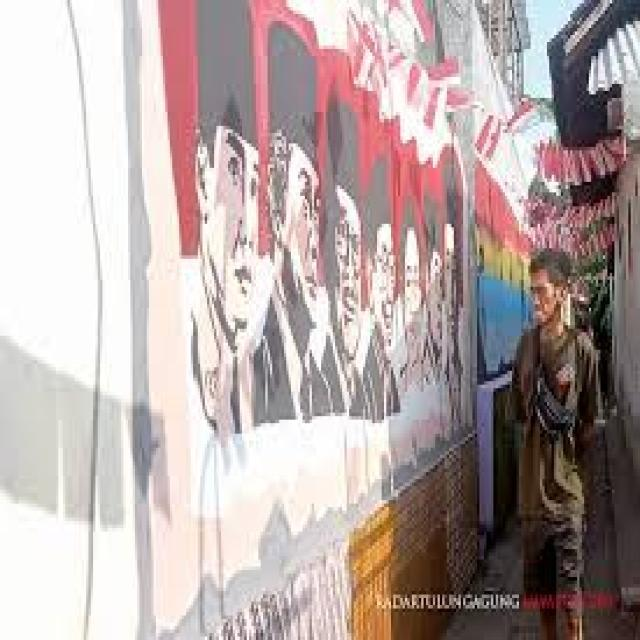-: (195, 0, 466, 423)
